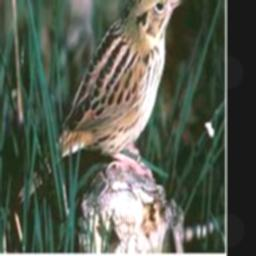Sparrow: (0, 0, 186, 219)
